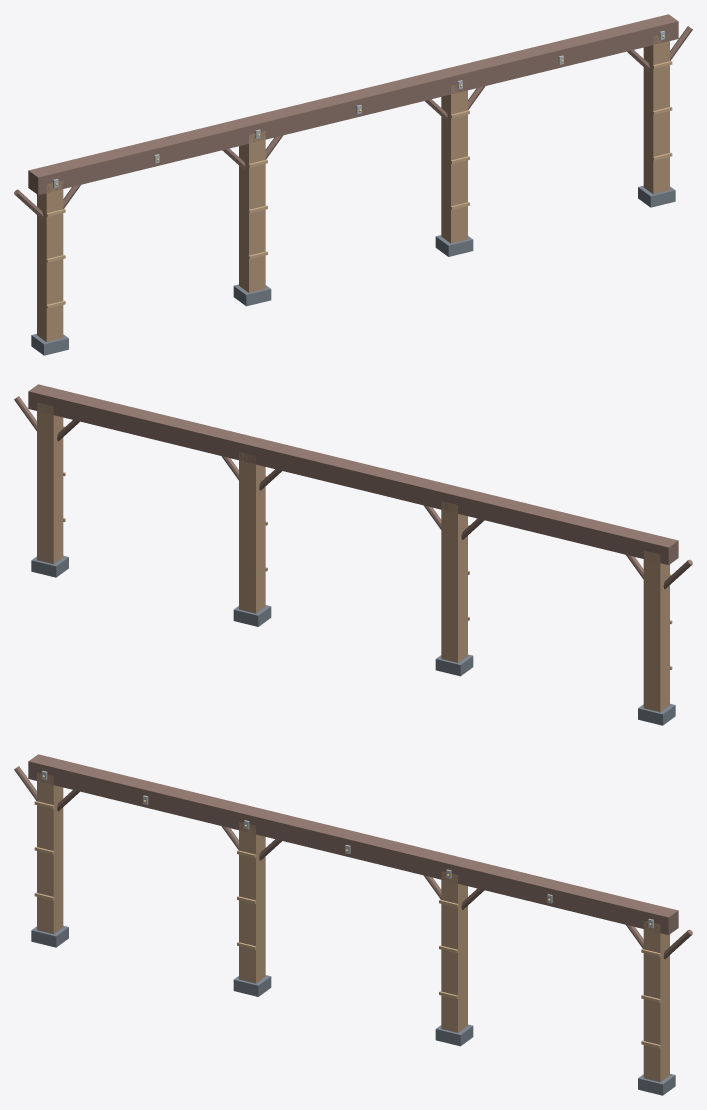
The model's file is portico_madera.glb.
3 renders of one model, top to bottom at view 1: azimuth 30°, elevation 25°; view 2: azimuth 150°, elevation 25°; view 3: azimuth 330°, elevation 25°, orthographic.
Visible parts, largest first — view 1: portico_madera; view 2: portico_madera; view 3: portico_madera.
Boxes of the visible parts, x1,y1,x2,y2 form: portico_madera: (14,14,692,355); portico_madera: (14,384,692,725); portico_madera: (14,754,692,1095).
Bounding box in the file's own units: 20.12 × 5.05 × 0.703.
